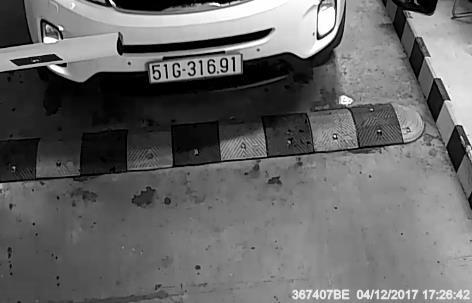License-plate: (143, 44, 250, 92)
